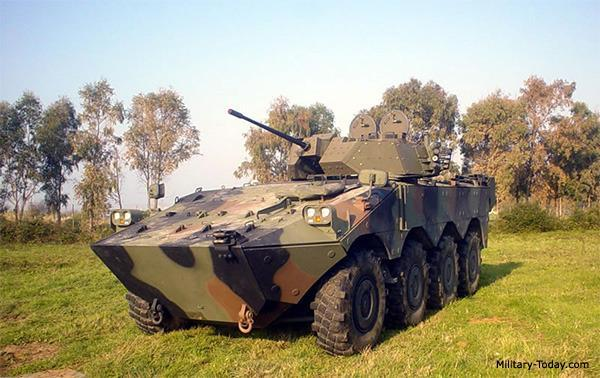MIL_IFV: (89, 104, 500, 356)
